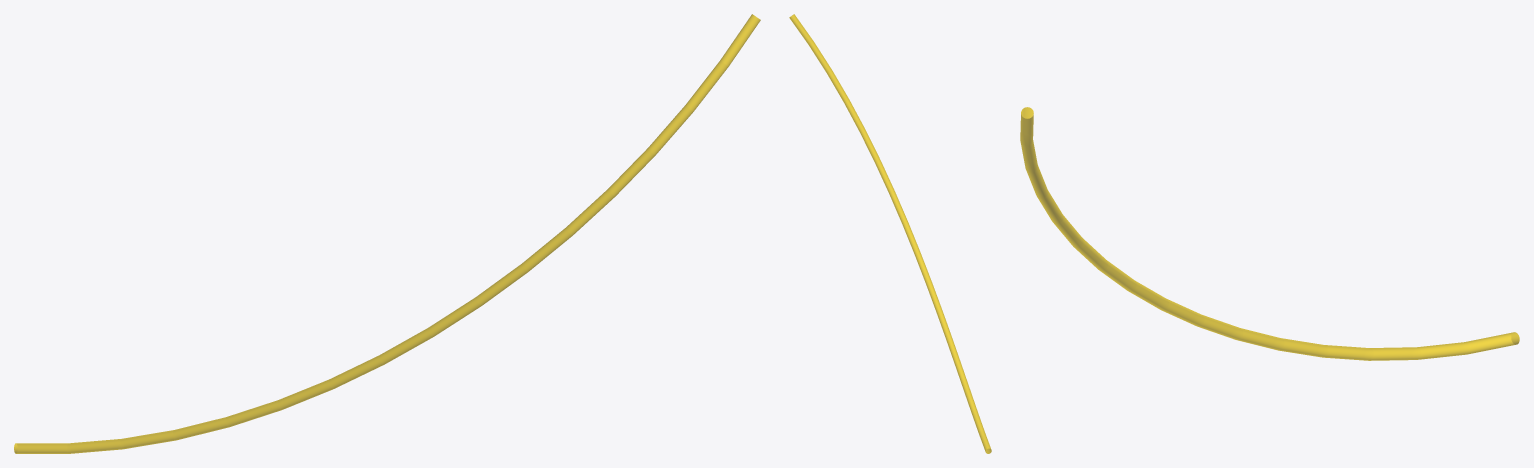
The model's file is Event_402970704_track_64.fbx.
3 views of the same model, side by side, from view 1: azimuth 30°, elevation 25°; view 2: azimuth 150°, elevation 25°; view 3: azimuth 270°, elevation 25° (orthographic). The views are drawn at different scales.
Visible parts, largest first — view 1: Model; view 2: Model; view 3: Model.
Part boxes in pixels (x1,y1,x2,y2): Model: (14, 14, 760, 453); Model: (789, 14, 991, 453); Model: (1020, 107, 1519, 360).
Bounding box in the file's own units: 2.33 × 1.88 × 1.56.
